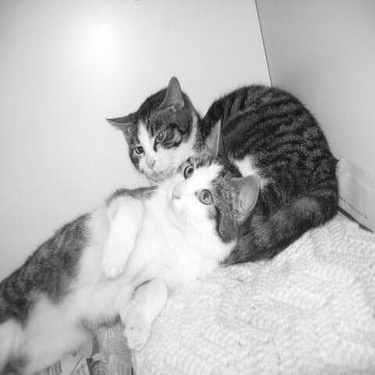cat: (1, 131, 248, 368), (109, 48, 348, 264)
